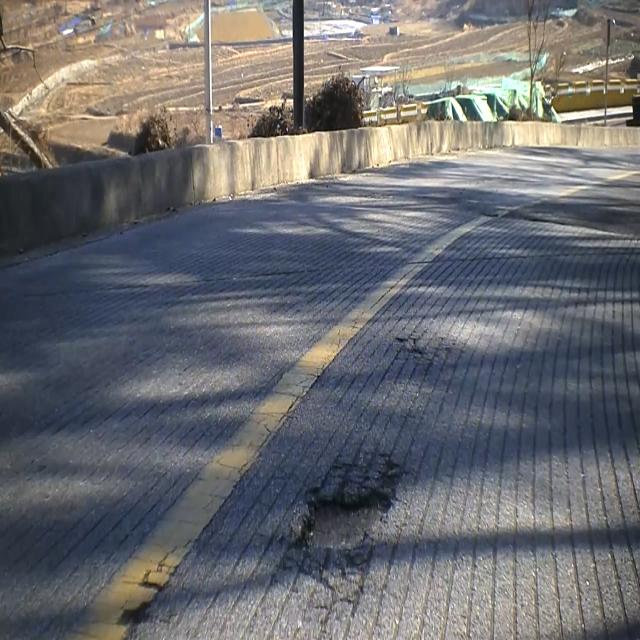Pothole: (278, 460, 404, 575)
